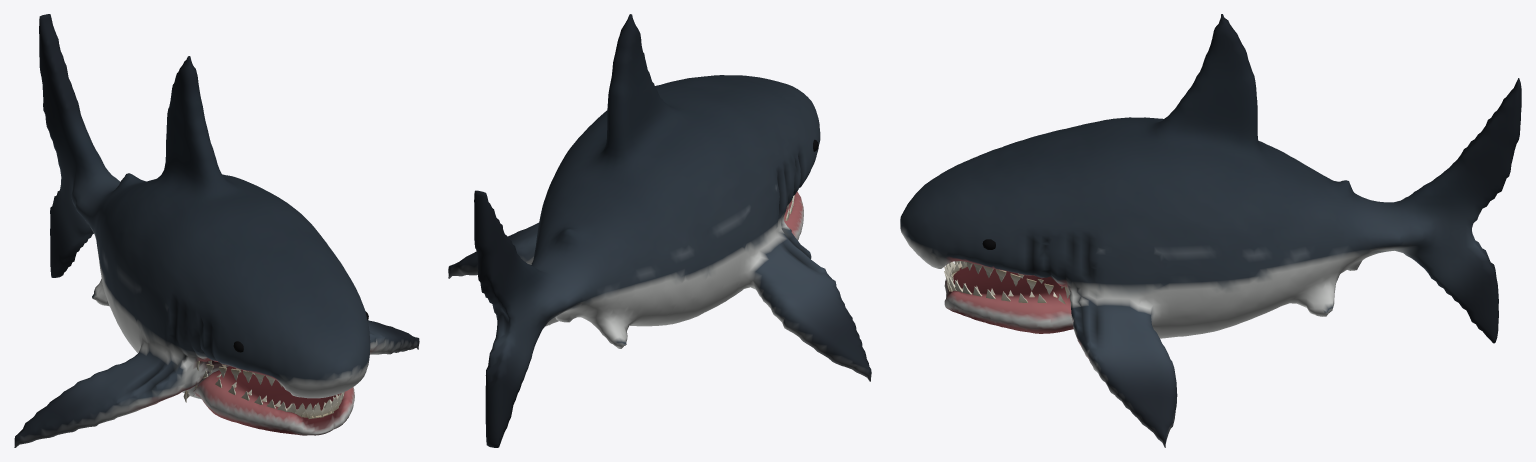
Rendered from Megalodon.fbx.
3 renders of one model, left to right at view 1: azimuth 30°, elevation 25°; view 2: azimuth 150°, elevation 25°; view 3: azimuth 270°, elevation 25°, orthographic. The views are drawn at different scales.
Visible parts, largest first — view 1: Megalodon; view 2: Megalodon; view 3: Megalodon.
Boxes of the visible parts, box(x1,y1,x2,y2) form: Megalodon: box(14, 14, 419, 447); Megalodon: box(448, 14, 871, 447); Megalodon: box(900, 14, 1521, 447).
Bounding box in the file's own units: 1.86 × 1.41 × 2.4.
